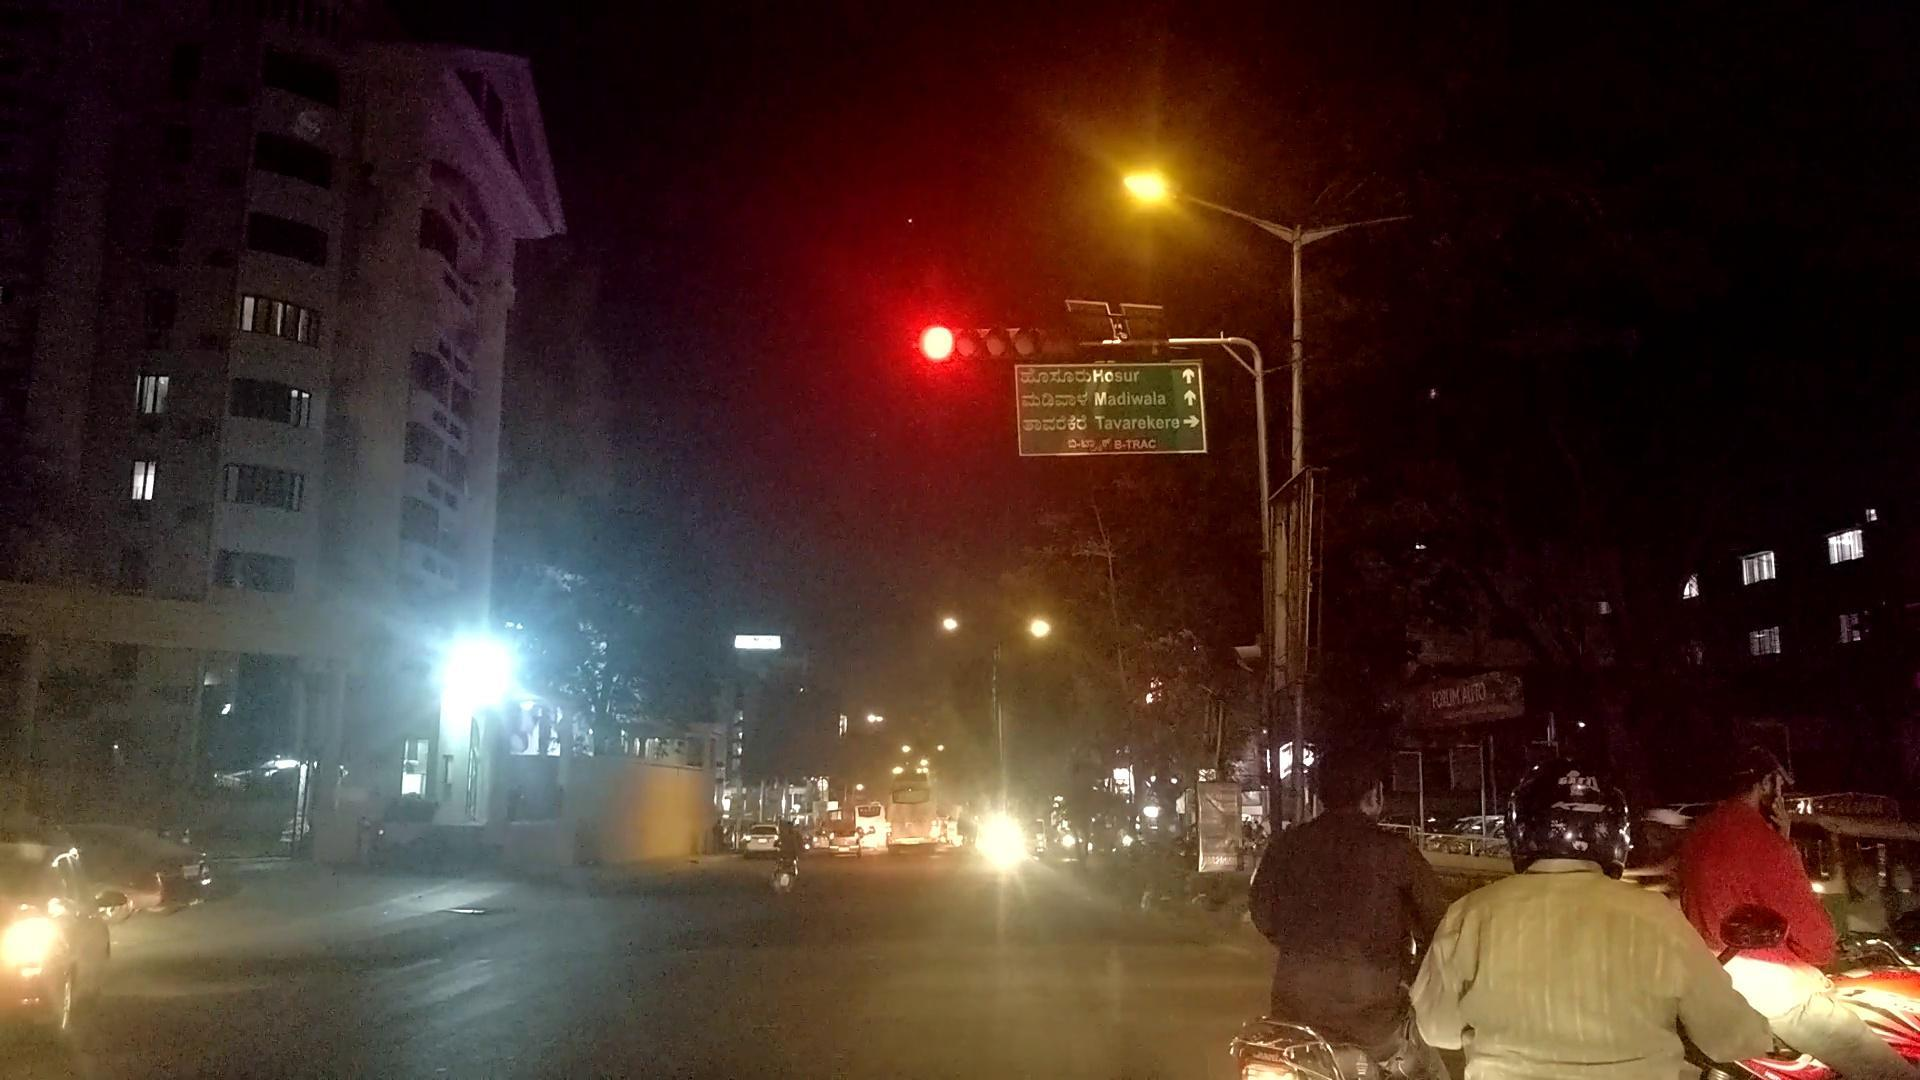on: (990, 82, 1311, 291)
